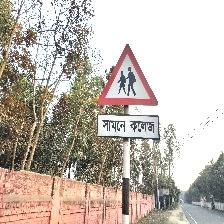College-in-front: (72, 39, 203, 157)
